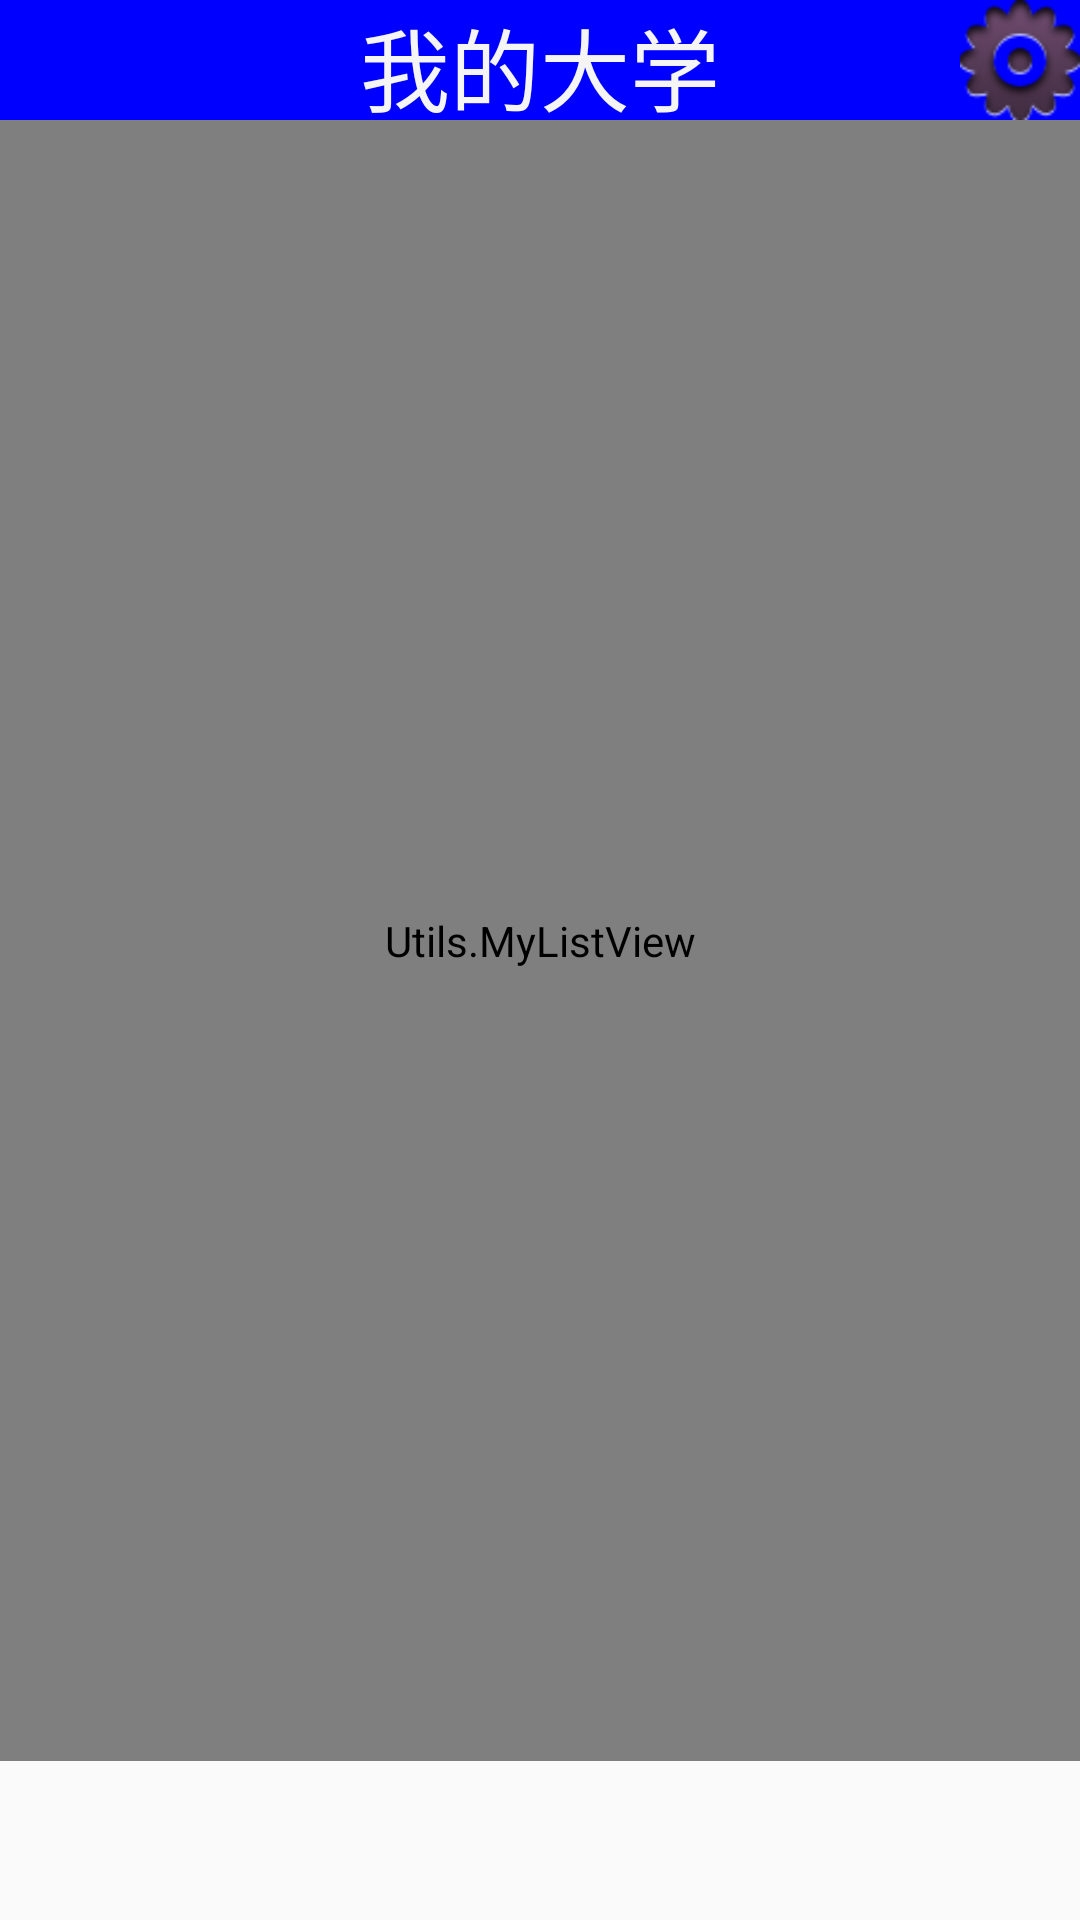

Named icons in this screenshot (1080 x 1920) and their centers, point (x, y):
setting: point (1020, 60)
